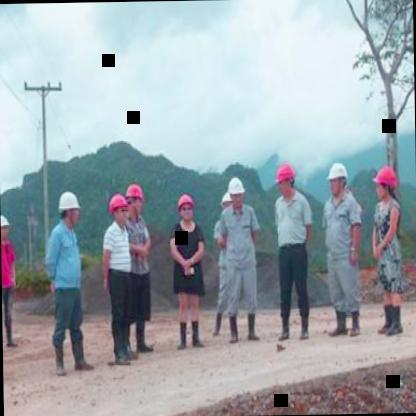helmet: (56, 186, 82, 229), (374, 165, 398, 206), (274, 159, 298, 199), (325, 158, 348, 198), (124, 180, 146, 216), (107, 191, 130, 224), (226, 174, 247, 209), (176, 191, 197, 223), (0, 210, 13, 246), (221, 190, 233, 215)
